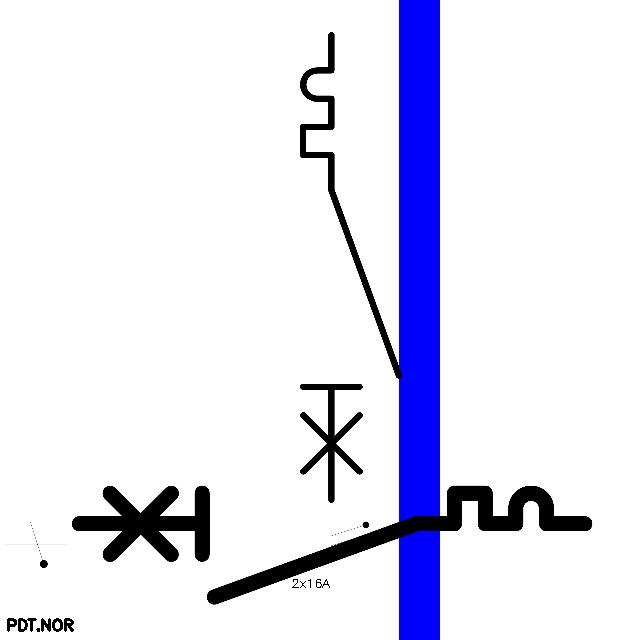interruptor_termomagnetico: (66, 480, 598, 610), (291, 23, 410, 511)
